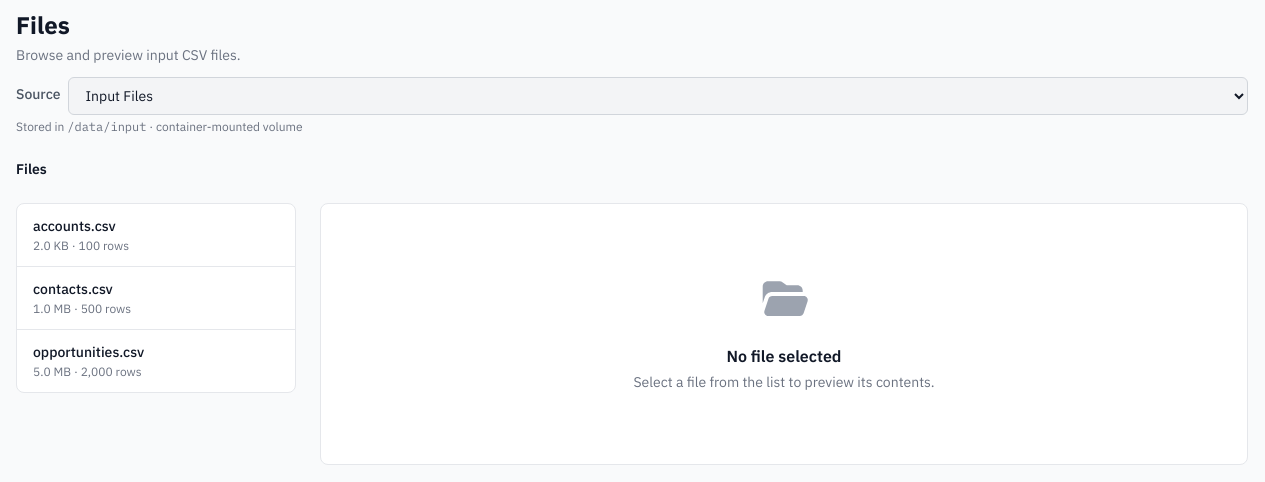
Test: FilesPage › shows pagination totals from the shared preview panel
The width and height of the screenshot is (1265, 482).
Click the text "accounts.csv".
click(74, 226)  # box [33,217,116,235]
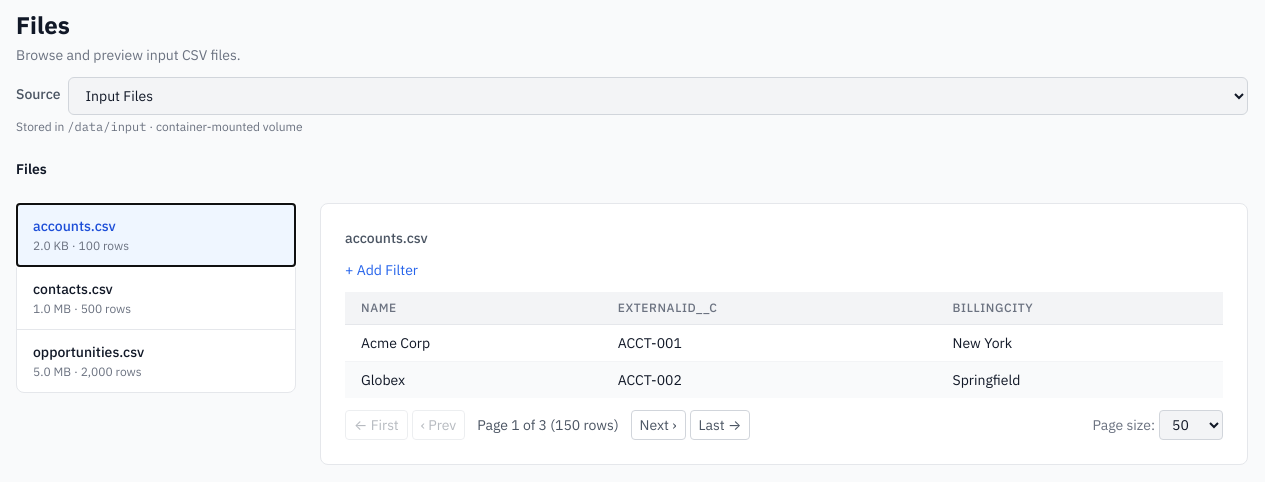
Result: the text "Page 1 of 3 (150 rows)" is shown at [469,415,627,435]
